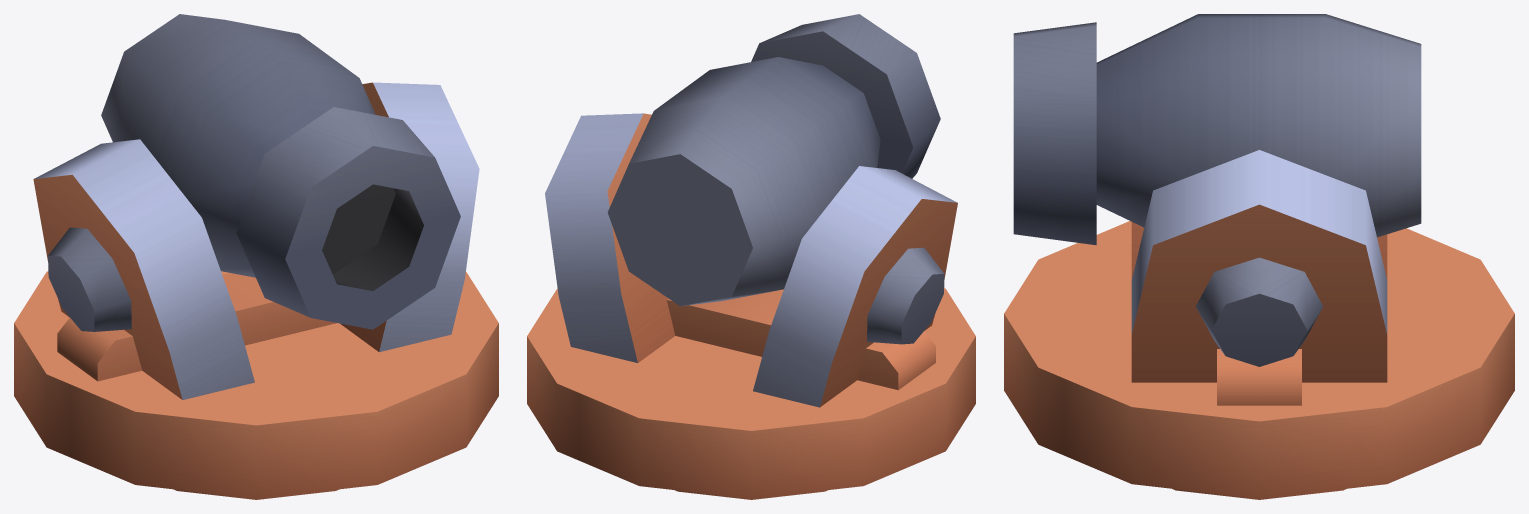
The model's file is weapon-cannon.fbx.
3 views of the same model, side by side, from view 1: azimuth 30°, elevation 25°; view 2: azimuth 150°, elevation 25°; view 3: azimuth 270°, elevation 25° (orthographic). The views are drawn at different scales.
Parts seen in each view (by area): view 1: weapon-cannon, barrel; view 2: weapon-cannon, barrel; view 3: weapon-cannon, barrel.
Boxes of the visible parts, x1,y1,x2,y2 form: weapon-cannon: [14, 82, 498, 499]; barrel: [101, 14, 460, 329]; weapon-cannon: [527, 113, 975, 499]; barrel: [607, 14, 940, 306]; weapon-cannon: [1004, 150, 1514, 499]; barrel: [1013, 14, 1421, 245].
Bounding box in the file's own units: 60 × 53.28 × 60.
